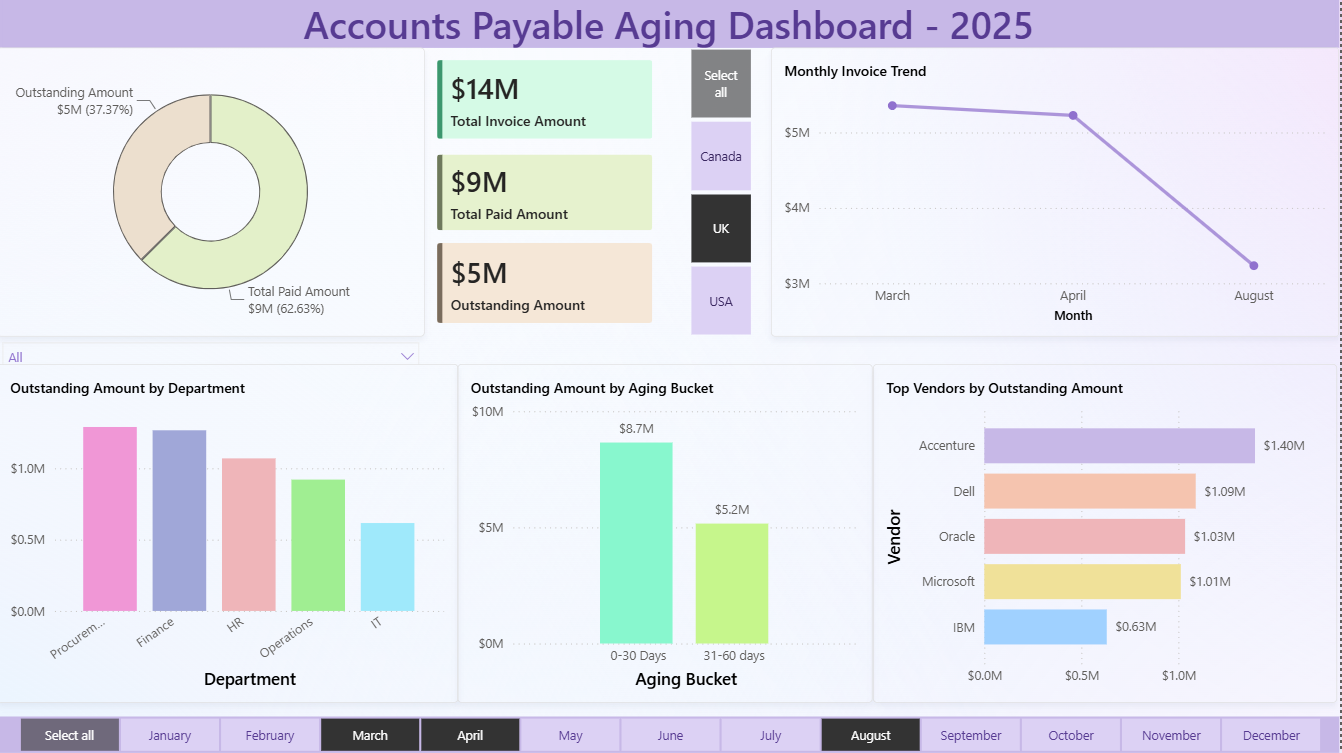

The page's visual inventory and layout, read from the dashboard file:
{"tool":"powerbi","page":{"name":"Page 1","canvas":[1280,720],"ordinal":0},"visuals":[{"type":"cardVisual","fields":{"Data":["AP_Data.Total Invoice Amount"]},"box":[407.3,46.4,229.5,99.5],"z":2},{"type":"textbox","title":"Accounts Payable Aging Dashboard - 2025","box":[0,0,1279.4,47.2],"z":4},{"type":"lineChart","title":"Monthly Invoice Trend","fields":{"Y":["AP_Data.Total Invoice Amount"],"Category":["Calendar.Month Name"]},"box":[737.4,46.9,542.1,275.6],"z":5},{"type":"clusteredBarChart","title":"Top Vendors by Outstanding Amount","fields":{"Category":["AP_Data.Vendor"],"Y":["AP_Data.Outstanding Amount"]},"box":[834.3,348.3,442.1,322.5],"z":6},{"type":"clusteredColumnChart","title":"Outstanding Amount by Aging Bucket","fields":{"Category":["AP_Data.Aging Bucket"],"Y":["Sum(AP_Data.Invoice_Amount)"]},"box":[439.1,348.3,395.2,322.5],"z":7},{"type":"slicer","fields":{"Values":["AP_Data.Country"]},"box":[640.5,46.9,96.9,275.6],"z":8},{"type":"slicer","fields":{"Values":["Calendar.Month Name"]},"box":[1.5,684.4,1278,34.8],"z":9},{"type":"slicer","fields":{"Values":["AP_Data.Vendor"]},"box":[0,322.5,407.3,25.7],"z":10},{"type":"donutChart","fields":{"Y":["AP_Data.Total Paid Amount","AP_Data.Outstanding Amount"]},"box":[0,46.9,407.3,275.6],"z":12},{"type":"clusteredColumnChart","fields":{"Category":["AP_Data.Department"],"Y":["AP_Data.Outstanding Amount"]},"box":[0,348.3,439.1,322.5],"z":13},{"type":"cardVisual","fields":{"Data":["AP_Data.Outstanding Amount"]},"box":[407.3,221.6,229.5,100.8],"z":14},{"type":"cardVisual","fields":{"Data":["AP_Data.Total Paid Amount"]},"box":[407.3,136.7,229.5,96.9],"z":15}]}

Visuals, with their boxes in screenshot pixels (x1, y1, x2, y2), scaled from the page's 1280x720 canvas onto the 1342x753 screenshot:
cardVisual - AP_Data.Total Invoice Amount: 427,49,668,153
"Accounts Payable Aging Dashboard - 2025" textbox: 0,0,1341,49
"Monthly Invoice Trend" lineChart: 773,49,1341,337
"Top Vendors by Outstanding Amount" clusteredBarChart: 875,364,1338,702
"Outstanding Amount by Aging Bucket" clusteredColumnChart: 460,364,875,702
slicer - AP_Data.Country: 672,49,773,337
slicer - Calendar.Month Name: 2,716,1341,752
slicer - AP_Data.Vendor: 0,337,427,364
donutChart - AP_Data.Total Paid Amount x AP_Data.Outstanding Amount: 0,49,427,337
clusteredColumnChart - AP_Data.Department x AP_Data.Outstanding Amount: 0,364,460,702
cardVisual - AP_Data.Outstanding Amount: 427,232,668,337
cardVisual - AP_Data.Total Paid Amount: 427,143,668,244
